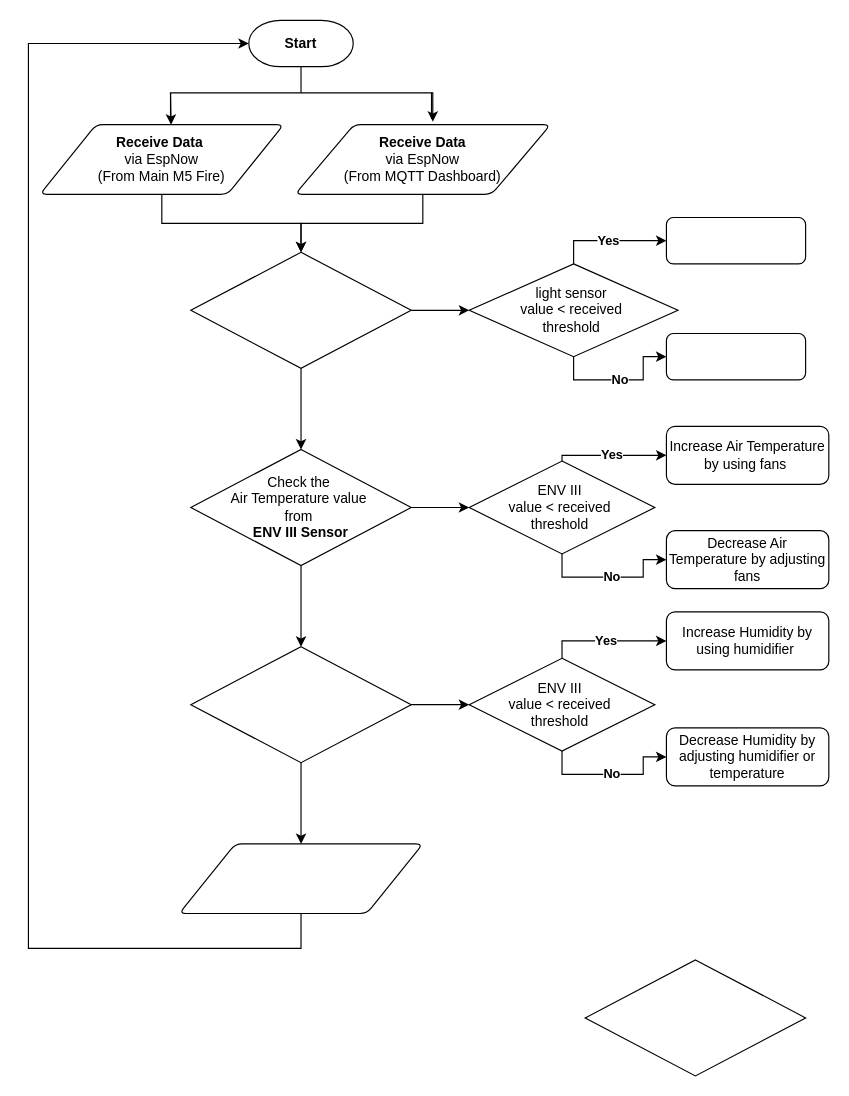
The diagram is 849 pixels wide and 1096 high, and some of its shapes have lost their labels. Here are the shapes that lost their labels. From the top down, the box of each, then its label:
(665, 216, 806, 264): Increase Light Intensity of LED
(190, 251, 411, 368): Check the Light Intensity value from Light Sensor
(665, 332, 806, 380): Decrease Light Intensity of LED
(190, 646, 411, 763): Check the Humidity value from ENV III Sensor
(178, 843, 423, 913): Send Data via EspNow (To MQTT Dashboard)
(584, 959, 806, 1076): Servo Motor
